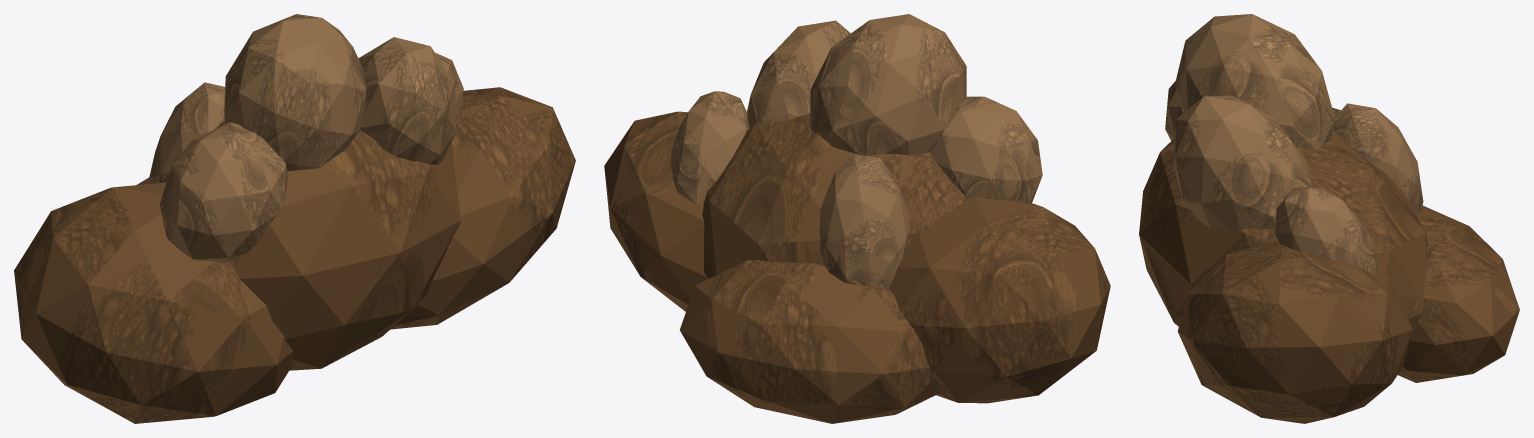
Rendered from gold-seam.glb.
The picture shows the model from 3 angles, left to right: view 1: azimuth 30°, elevation 25°; view 2: azimuth 150°, elevation 25°; view 3: azimuth 270°, elevation 25°; orthographic projection. The views are drawn at different scales.
Parts seen in each view (by area): view 1: GoldSeam; view 2: GoldSeam; view 3: GoldSeam.
Boxes of the visible parts, x1=… form: GoldSeam: x1=14, y1=14, x2=575, y2=423; GoldSeam: x1=604, y1=14, x2=1110, y2=423; GoldSeam: x1=1139, y1=14, x2=1519, y2=423.
Size of the model in its own units: 1.63 by 1.09 by 1.06.
1 material, 1 textured.
